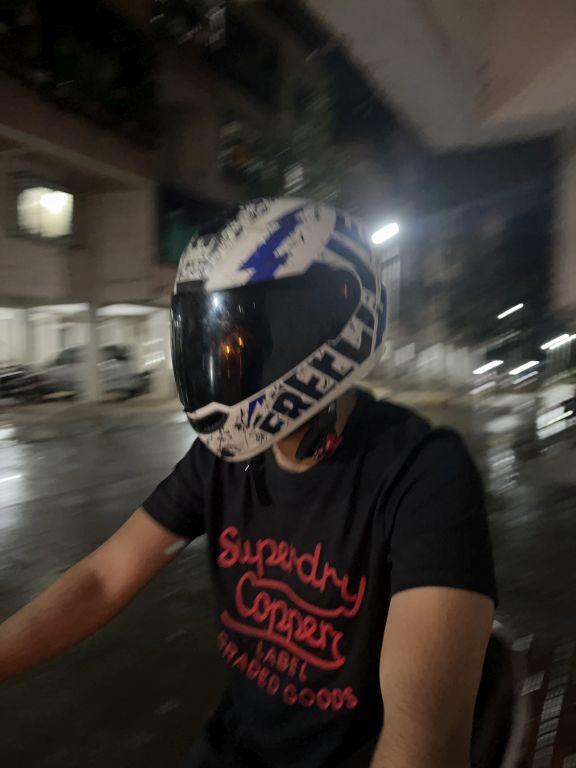helmet: (162, 185, 397, 473)
